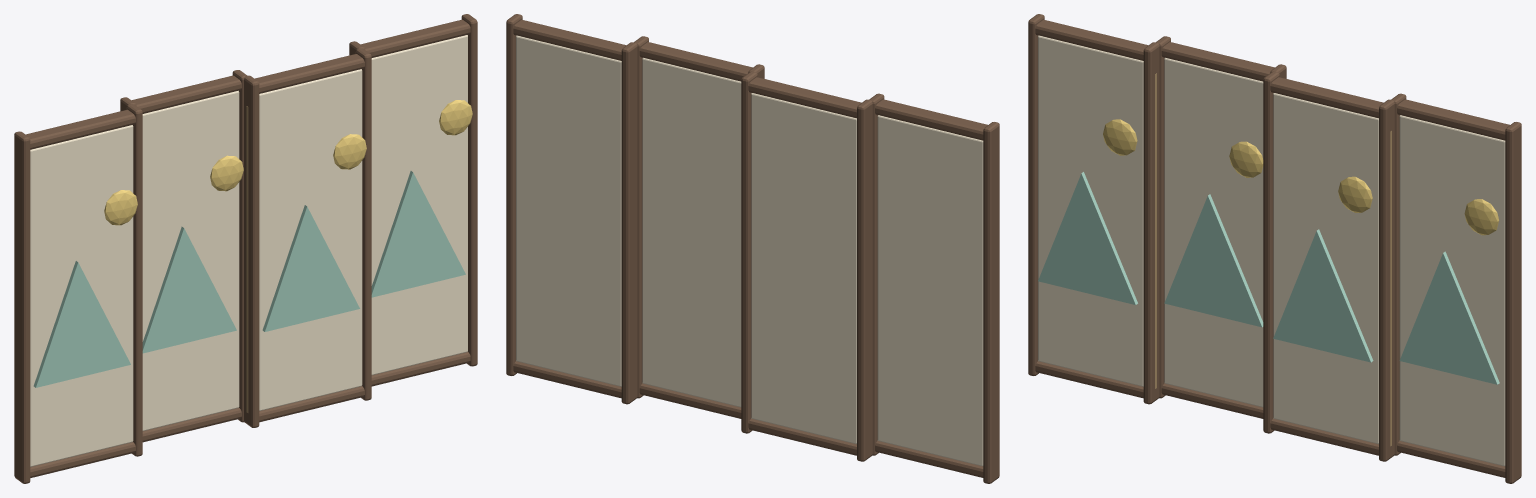
Rendered from home_byobu.glb.
3 views of the same model, side by side, from view 1: azimuth 30°, elevation 25°; view 2: azimuth 150°, elevation 25°; view 3: azimuth 330°, elevation 25° (orthographic). The views are drawn at different scales.
Parts seen in each view (by area): view 1: Folding byobu paper screen.002, Folding byobu paper screen, Folding byobu paper screen.001, Folding byobu paper screen.003, Byobu stylized mountain2, Byobu stylized mountain0, Byobu stylized mountain1, Byobu stylized mountain3, Black lacquer frame, Black lacquer frame.004, Black lacquer frame.007, Black lacquer frame.001 (+15 smaller); view 2: Folding byobu paper screen, Folding byobu paper screen.003, Folding byobu paper screen.001, Folding byobu paper screen.002, Black lacquer frame, Black lacquer frame.006, Black lacquer frame.002, Black lacquer frame.003, Black lacquer frame.007, Black lacquer frame.001, Black lacquer frame.005, Byobu top-bottom rail.001 (+7 smaller); view 3: Folding byobu paper screen.003, Folding byobu paper screen, Folding byobu paper screen.002, Folding byobu paper screen.001, Byobu stylized mountain2, Byobu stylized mountain1, Byobu stylized mountain3, Byobu stylized mountain0, Black lacquer frame.007, Black lacquer frame.001, Black lacquer frame.005, Black lacquer frame.004 (+17 smaller).
Boxes of the visible parts, box(x1,y1,x2,y2) form: Folding byobu paper screen.002: box(259, 69, 362, 410); Folding byobu paper screen: box(30, 125, 133, 466); Folding byobu paper screen.001: box(142, 90, 239, 430); Folding byobu paper screen.003: box(371, 35, 467, 375); Byobu stylized mountain2: box(262, 205, 359, 331); Byobu stylized mountain0: box(33, 261, 130, 387); Byobu stylized mountain1: box(142, 226, 236, 353); Byobu stylized mountain3: box(371, 171, 465, 297); Black lacquer frame: box(14, 131, 30, 483); Black lacquer frame.004: box(244, 75, 259, 427); Black lacquer frame.007: box(461, 14, 477, 366); Black lacquer frame.001: box(126, 104, 142, 456); Folding byobu paper screen: box(877, 115, 983, 466); Folding byobu paper screen.003: box(516, 35, 621, 386); Folding byobu paper screen.001: box(751, 93, 856, 444); Folding byobu paper screen.002: box(642, 57, 741, 407); Black lacquer frame: box(983, 122, 999, 483); Black lacquer frame.006: box(621, 42, 637, 404); Black lacquer frame.002: box(857, 99, 872, 461); Black lacquer frame.003: box(741, 71, 757, 433); Black lacquer frame.007: box(506, 14, 522, 375); Black lacquer frame.001: box(869, 93, 884, 455); Black lacquer frame.005: box(634, 36, 648, 398); Byobu top-bottom rail.001: box(875, 99, 987, 140); Folding byobu paper screen.003: box(1399, 115, 1505, 466); Folding byobu paper screen: box(1038, 35, 1143, 386); Folding byobu paper screen.002: box(1273, 93, 1378, 444); Folding byobu paper screen.001: box(1164, 57, 1263, 407); Byobu stylized mountain2: box(1273, 229, 1373, 362); Byobu stylized mountain1: box(1164, 194, 1263, 327); Byobu stylized mountain3: box(1399, 251, 1499, 384); Byobu stylized mountain0: box(1038, 172, 1137, 304); Black lacquer frame.007: box(1505, 122, 1521, 483); Black lacquer frame.001: box(1143, 42, 1159, 404); Black lacquer frame.005: box(1379, 99, 1394, 461); Black lacquer frame.004: box(1263, 71, 1279, 433).
Bounding box in the file's own units: 1.95 × 1.39 × 0.1806.
